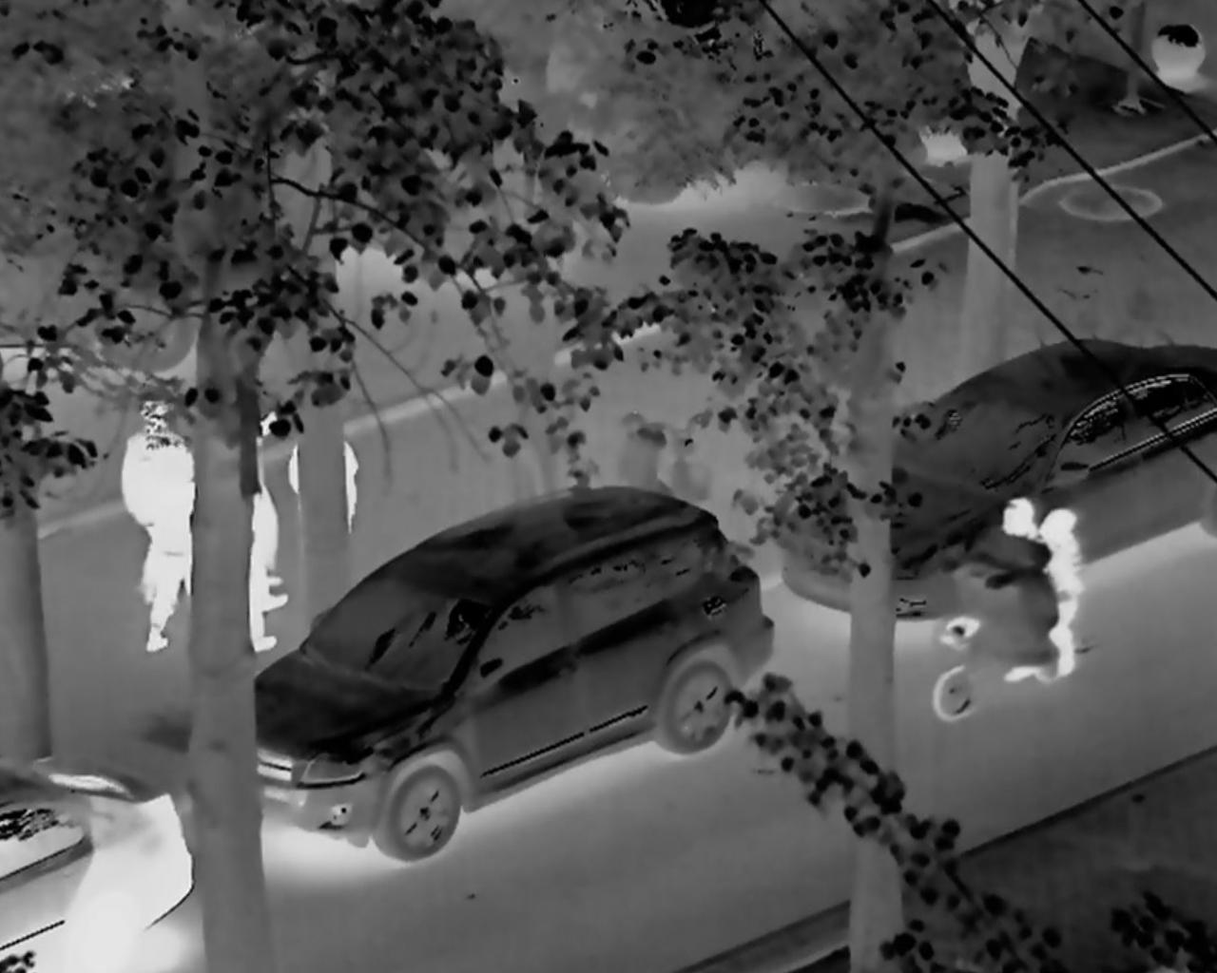person: (217, 394, 286, 658), (120, 414, 199, 626), (984, 496, 1043, 682), (298, 411, 366, 544), (1031, 506, 1081, 680)
